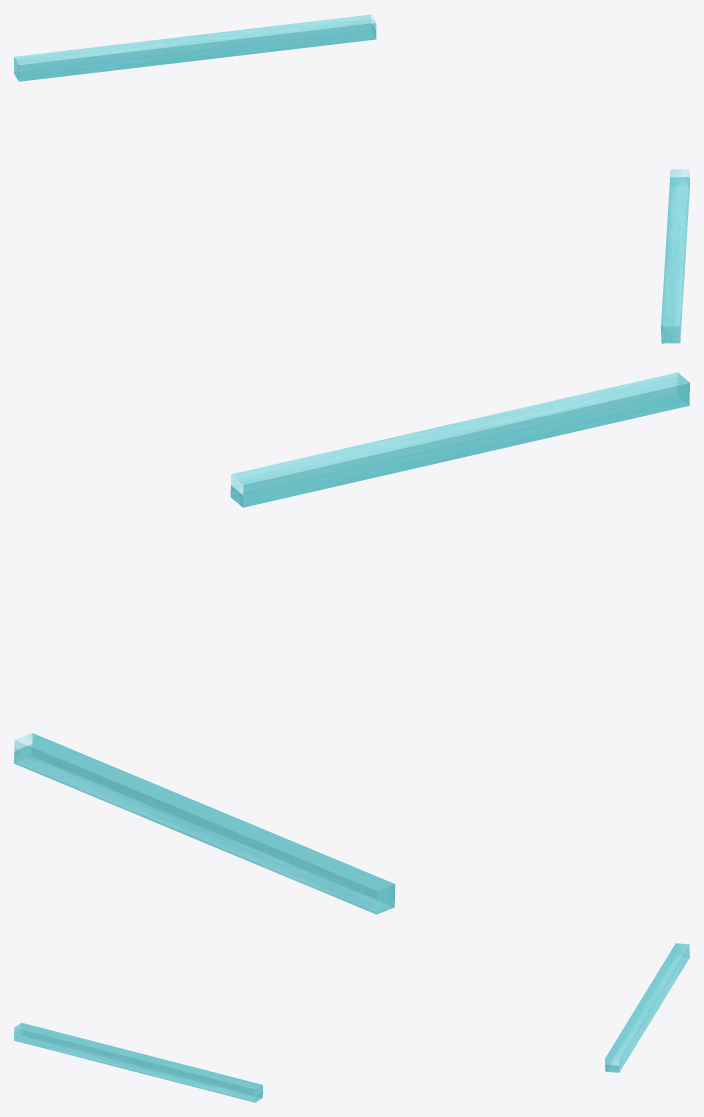
File: laser_dome03.glb
The picture shows the model from 3 angles, top to bottom: view 1: azimuth 30°, elevation 25°; view 2: azimuth 150°, elevation 25°; view 3: azimuth 270°, elevation 25°; orthographic projection. The views are drawn at different scales.
Parts seen in each view (by area): view 1: Cube.118; view 2: Cube.118; view 3: Cube.118.
Part boxes in pixels (left/top/right/bottom): Cube.118: left=14, top=14, right=689, bottom=343; Cube.118: left=14, top=372, right=689, bottom=914; Cube.118: left=14, top=943, right=689, bottom=1102.
Bounding box in the file's own units: 1.13 × 0.0492 × 2.19.
1 material, 1 textured.
